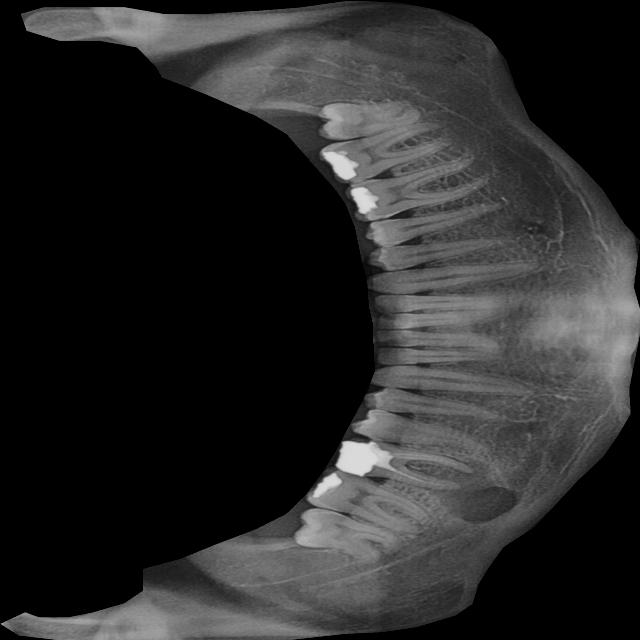mandibula: (0, 0, 640, 640)
